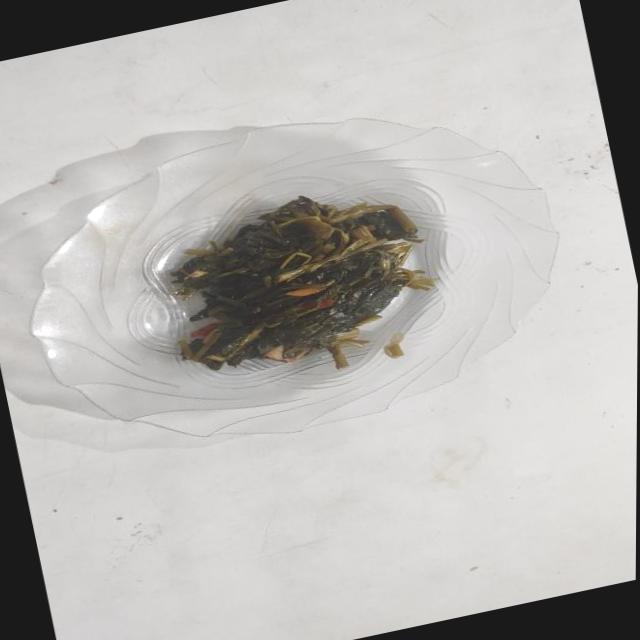tumis_kangkung: (170, 196, 433, 370)
